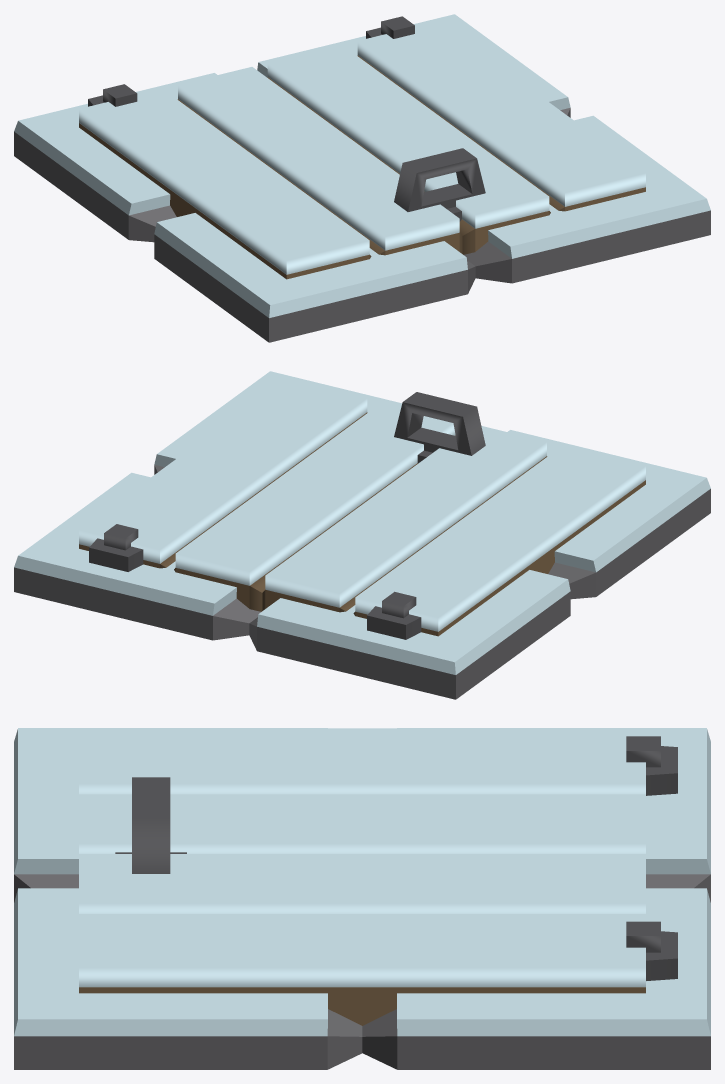
Rendered from SM_Prop_Trapdoor_01_Snow.gltf.
3 views of the same model, one above another, from view 1: azimuth 30°, elevation 25°; view 2: azimuth 150°, elevation 25°; view 3: azimuth 270°, elevation 25° (orthographic). The views are drawn at different scales.
Visible parts, largest first — view 1: SM_Prop_Trapdoor_01_Snow; view 2: SM_Prop_Trapdoor_01_Snow; view 3: SM_Prop_Trapdoor_01_Snow.
Boxes of the visible parts, <box> form: SM_Prop_Trapdoor_01_Snow: <box>14,14,710,342</box>; SM_Prop_Trapdoor_01_Snow: <box>14,371,710,699</box>; SM_Prop_Trapdoor_01_Snow: <box>14,728,710,1069</box>.
Size of the model in its own units: 1.14 by 0.2263 by 1.14.
Materials: 1 (1 with a texture image).
